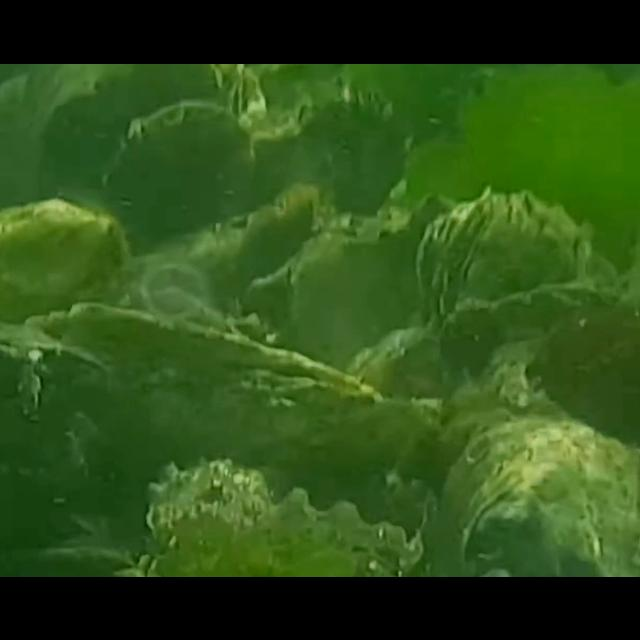Oyster-Closed: (27, 300, 381, 462), (350, 284, 640, 412), (433, 410, 640, 576), (144, 456, 422, 576), (416, 187, 594, 327), (99, 101, 251, 256), (285, 225, 425, 373), (0, 196, 130, 324), (288, 82, 402, 224), (0, 319, 112, 416)
